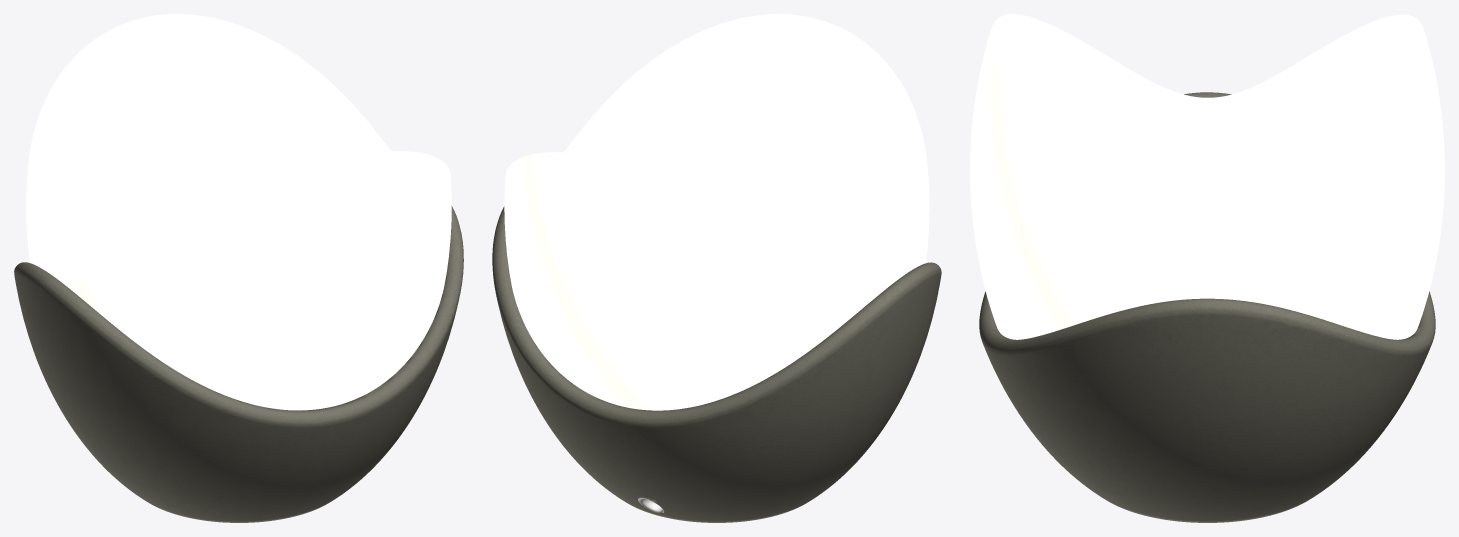
The model's file is holo.glb.
3 renders of one model, left to right at view 1: azimuth 30°, elevation 25°; view 2: azimuth 150°, elevation 25°; view 3: azimuth 270°, elevation 25°, orthographic. The views are drawn at different scales.
Parts seen in each view (by area): view 1: Holo; view 2: Holo; view 3: Holo.
Boxes of the visible parts, x1,y1,x2,y2 form: Holo: (14,14,463,522); Holo: (492,14,941,522); Holo: (970,14,1444,522).
Size of the model in its own units: 0.1872 by 0.1752 by 0.1742.
Materials: 6 (2 with a texture image).
